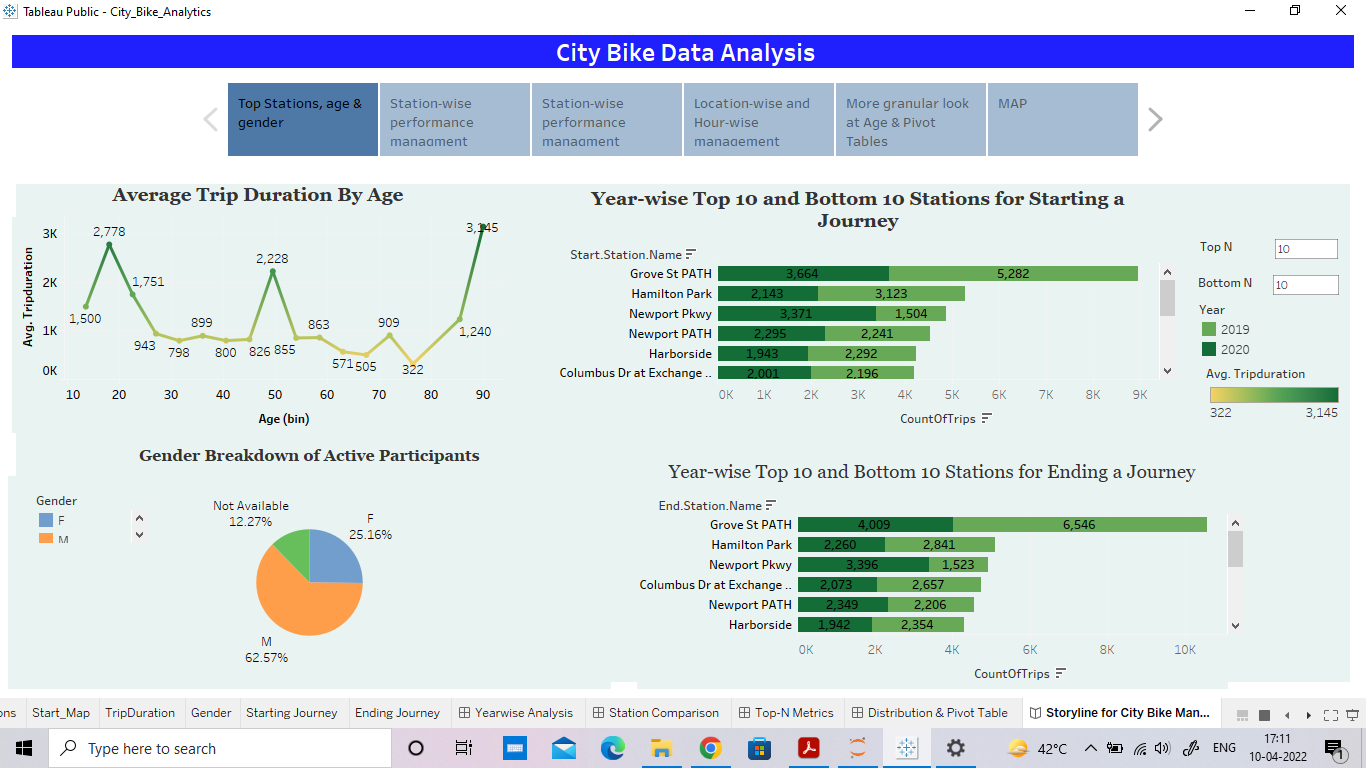

The dashboard page shown, as its layout file describes it:
{"tool":"tableau","page":{"name":"Top-N Metrics","canvas":[1000,1000],"units":"permille","ordinal":2},"visuals":[{"type":"worksheet","box":[0,0,1000,1000]},{"type":"worksheet","title":"TripDuration","mark":"Line","rows":["tripduration"],"cols":["Age (bin)"],"box":[2.6,6.9,364.4,493.9]},{"type":"worksheet","param":"vert","box":[7,13.5,986.1,973]},{"type":"worksheet","box":[7,13.5,986.1,973]},{"type":"worksheet","title":"Starting Journey","mark":"Automatic","rows":["start.station.name"],"cols":["Calculation_265149476236341248"],"box":[406.5,15.6,458.3,487]},{"type":"worksheet","param":"[Parameters].[CountOfTripDuration Parameter]","box":[883.1,116.5,104.8,55.7]},{"type":"worksheet","param":"[Parameters].[CountOfTripDuration Parameter (copy)_265149476236771329]","box":[881.4,185.8,106.5,55.7]},{"type":"worksheet","title":"Starting Journey","mark":"Automatic","rows":["start.station.name"],"cols":["Calculation_265149476236341248"],"param":"[federated.0axtsh30ud2oz713ihg7k1uitwuh].[none:year:nk]","box":[882.2,243.2,109.1,135.1]},{"type":"worksheet","title":"TripDuration","mark":"Line","rows":["tripduration"],"cols":["Age (bin)"],"param":"[federated.0axtsh30ud2oz713ihg7k1uitwuh].[avg:tripduration:qk]","box":[887.5,368.2,101.3,155.4]},{"type":"worksheet","title":"Gender","mark":"Pie","box":[0,517.7,446.5,480.6]},{"type":"worksheet","title":"Ending Journey","mark":"Automatic","rows":["end.station.name"],"cols":["Calculation_265149476236341248"],"box":[465.8,547.3,449.4,451]},{"type":"worksheet","title":"Gender","mark":"Pie","param":"[federated.0axtsh30ud2oz713ihg7k1uitwuh].[none:gender:nk]","box":[20.5,615.6,84.5,98.7]}]}

Visuals, with their boxes on the dashboard's canvas, which has no fixed pixel size, in thousandths of its width and height (x1, y1, x2, y2). These are canvas units, not pixel positions in the 1366x768 screenshot, which may show the page scaled, cropped or inside an application window:
worksheet: left=0, top=0, right=1000, bottom=1000
"TripDuration" worksheet (Line marks): left=3, top=7, right=367, bottom=501
worksheet: left=7, top=14, right=993, bottom=986
worksheet: left=7, top=14, right=993, bottom=986
"Starting Journey" worksheet: left=406, top=16, right=865, bottom=503
worksheet: left=883, top=116, right=988, bottom=172
worksheet: left=881, top=186, right=988, bottom=242
"Starting Journey" worksheet: left=882, top=243, right=991, bottom=378
"TripDuration" worksheet (Line marks): left=888, top=368, right=989, bottom=524
"Gender" worksheet (Pie marks): left=0, top=518, right=446, bottom=998
"Ending Journey" worksheet: left=466, top=547, right=915, bottom=998
"Gender" worksheet (Pie marks): left=20, top=616, right=105, bottom=714
